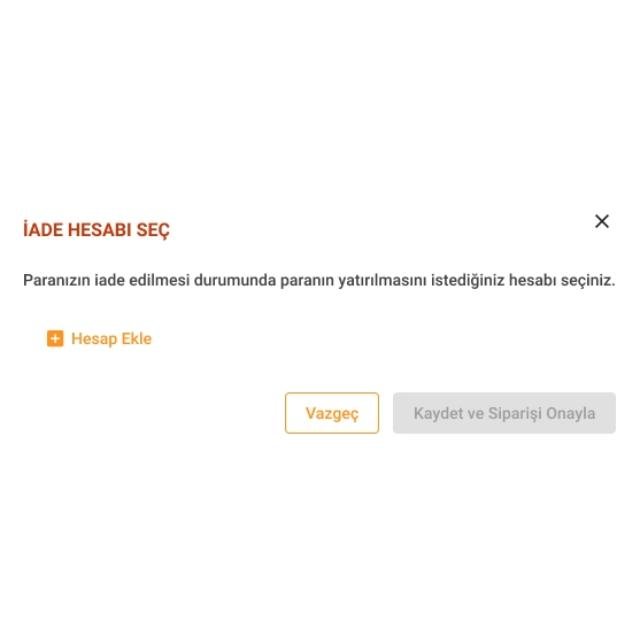QLabel: (21, 270, 616, 290), (19, 216, 171, 244), (411, 404, 599, 424), (70, 330, 154, 350), (306, 404, 360, 424)
VBtn: (392, 391, 618, 435), (284, 390, 382, 436)
VDialog: (0, 181, 640, 459), (0, 181, 640, 459)
VIcon: (44, 326, 66, 349), (591, 213, 611, 231)
